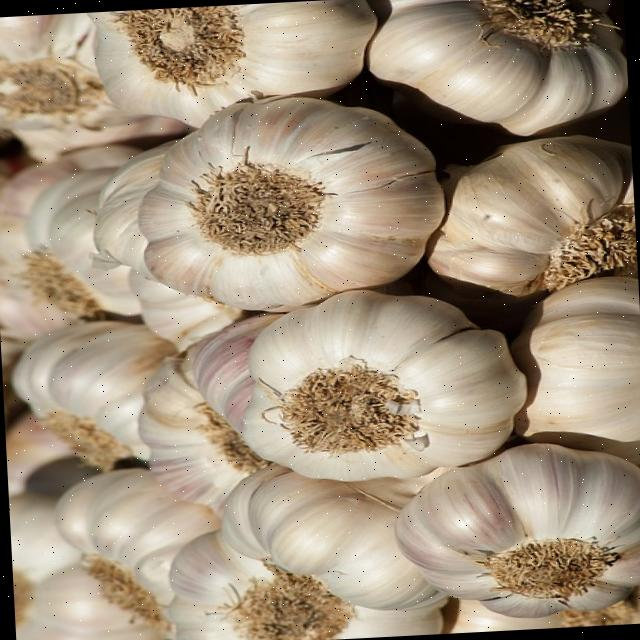garlic: (84, 0, 439, 350), (239, 289, 526, 480), (397, 442, 640, 616), (367, 0, 627, 134), (426, 135, 630, 295), (219, 465, 446, 608), (167, 530, 441, 640), (512, 275, 640, 464), (15, 325, 180, 459), (0, 14, 127, 136)
